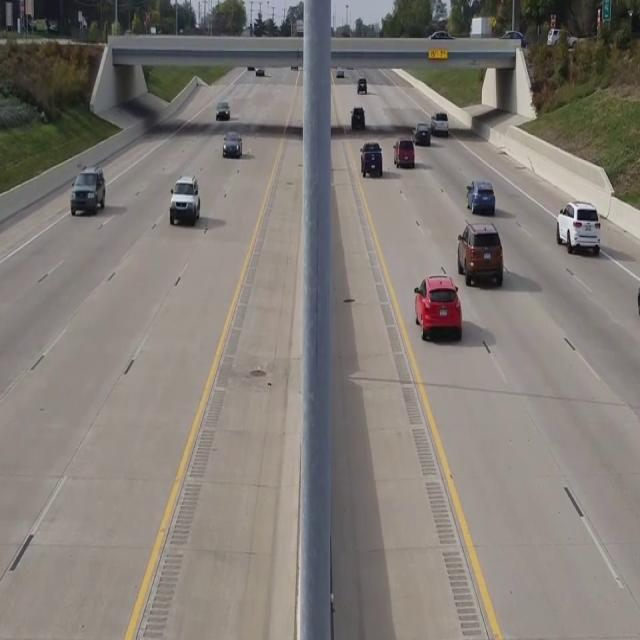car: (413, 273, 462, 341), (457, 222, 503, 286), (556, 200, 601, 255), (70, 166, 105, 214), (169, 173, 200, 225), (466, 179, 495, 214), (359, 141, 383, 177), (392, 138, 414, 168), (222, 130, 242, 159), (216, 102, 229, 120)
